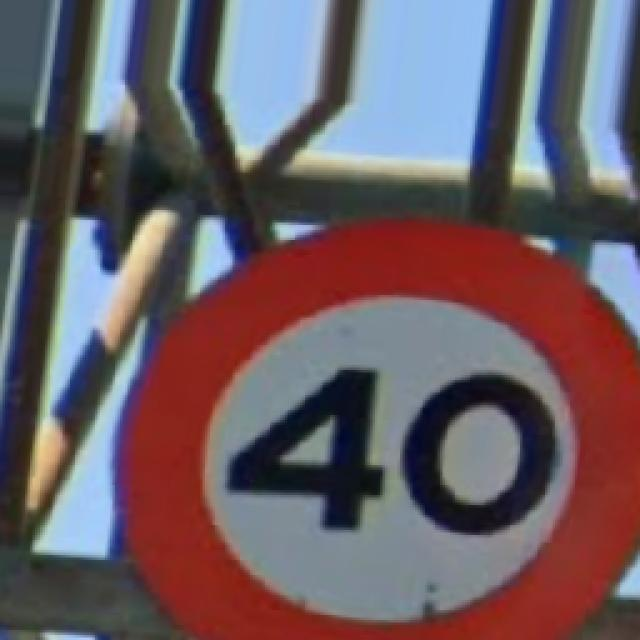Speed Limit -40-: (130, 222, 638, 638)
